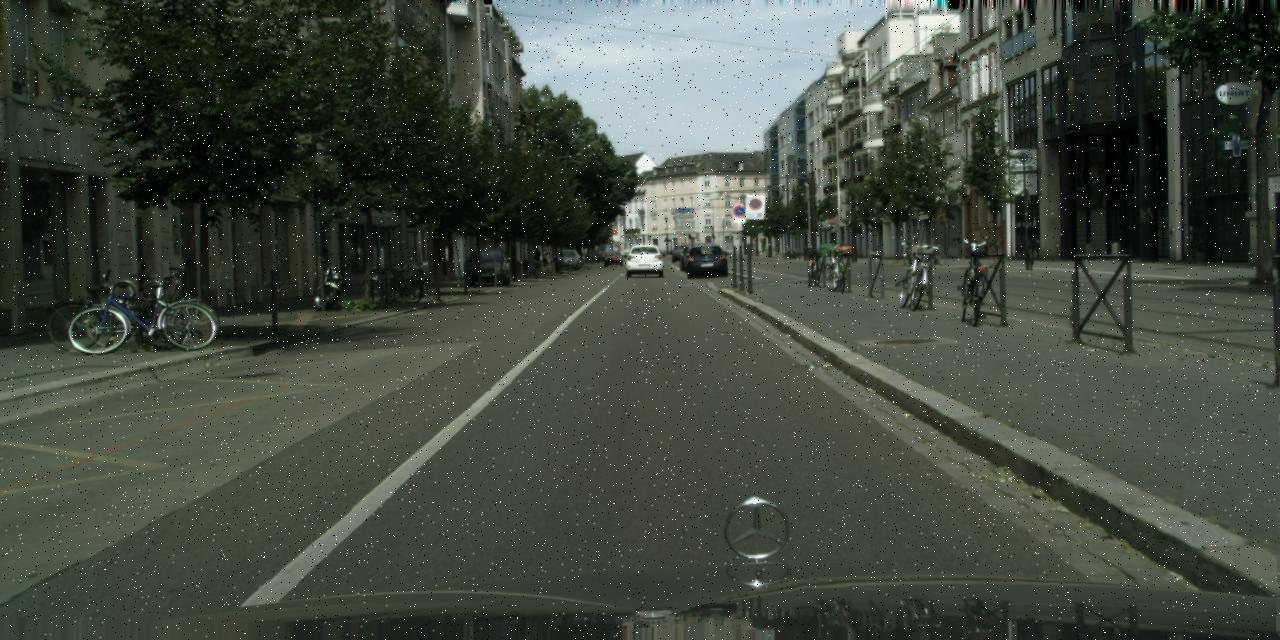ped: (533, 248, 541, 269)
